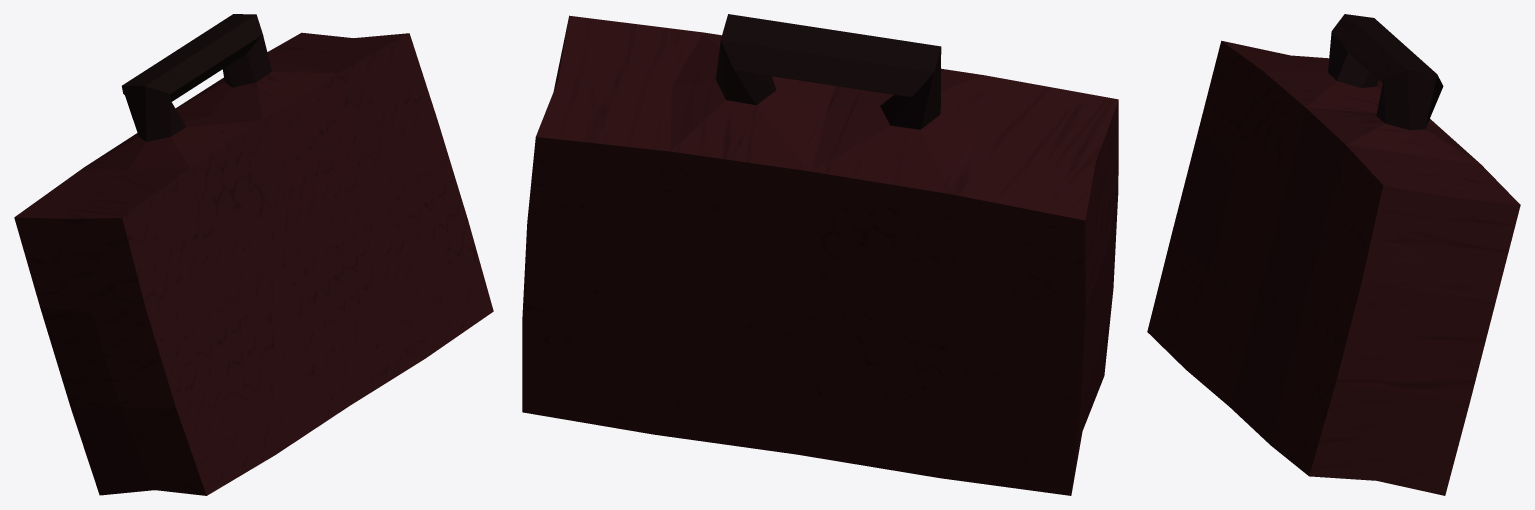
The model's file is MrLawBag.fbx.
3 views of the same model, side by side, from view 1: azimuth 30°, elevation 25°; view 2: azimuth 150°, elevation 25°; view 3: azimuth 270°, elevation 25° (orthographic). The views are drawn at different scales.
Parts seen in each view (by area): view 1: bag; view 2: bag; view 3: bag.
Part boxes in pixels (x1,y1,x2,y2): bag: [14, 14, 493, 495]; bag: [522, 14, 1118, 495]; bag: [1147, 14, 1520, 495].
Size of the model in its own units: 267 by 215 by 187.
